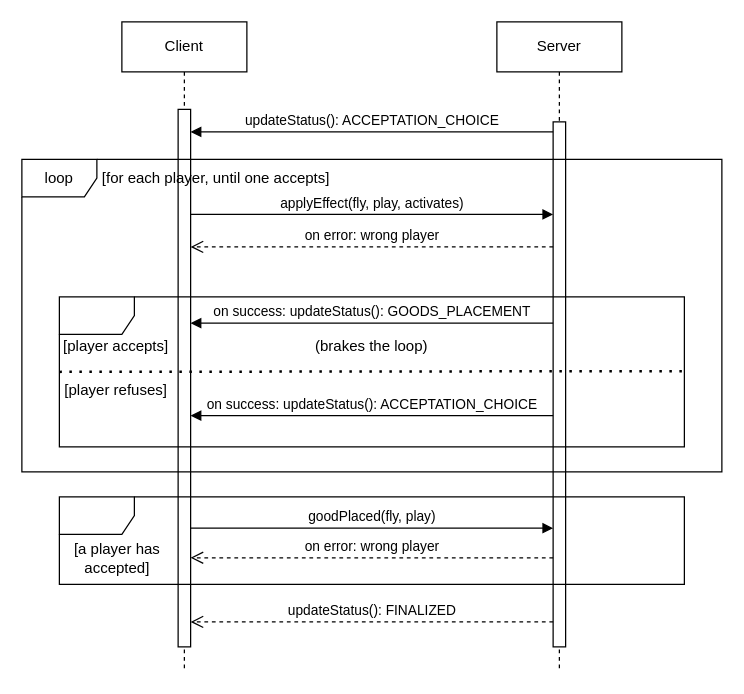
The diagram is 744 pixels wide and 694 high, and some of its shapes have lost their labels. The box of each missing label's shape, as (x1, y1, x2, y2) in pixels:
alt: (58, 296, 684, 447)
opt: (58, 496, 684, 584)
